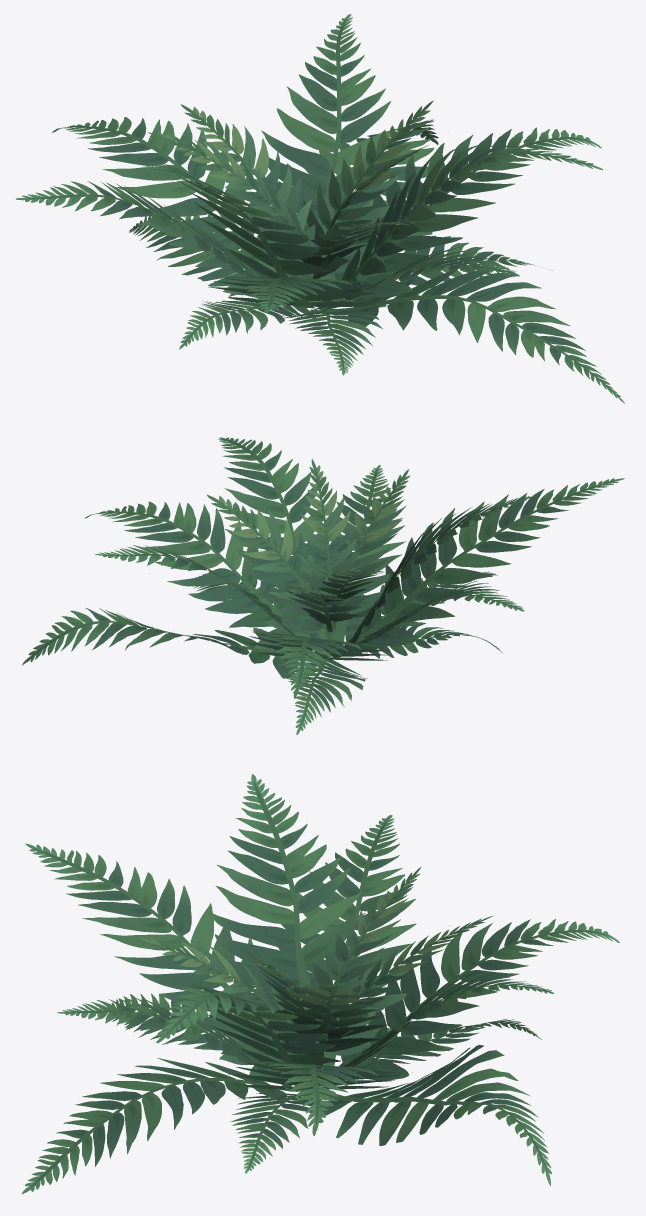
The model's file is fernBush_1.fbx.
3 views of the same model, one above another, from view 1: azimuth 30°, elevation 25°; view 2: azimuth 150°, elevation 25°; view 3: azimuth 270°, elevation 25° (orthographic). The views are drawn at different scales.
Visible parts, largest first — view 1: fernBush10; view 2: fernBush10; view 3: fernBush10.
Part boxes in pixels (x1,y1,x2,y2): fernBush10: (16,14,624,403); fernBush10: (22,437,624,734); fernBush10: (22,774,619,1194).
Size of the model in its own units: 419 by 174 by 397.
Materials: 1 (1 with a texture image).
